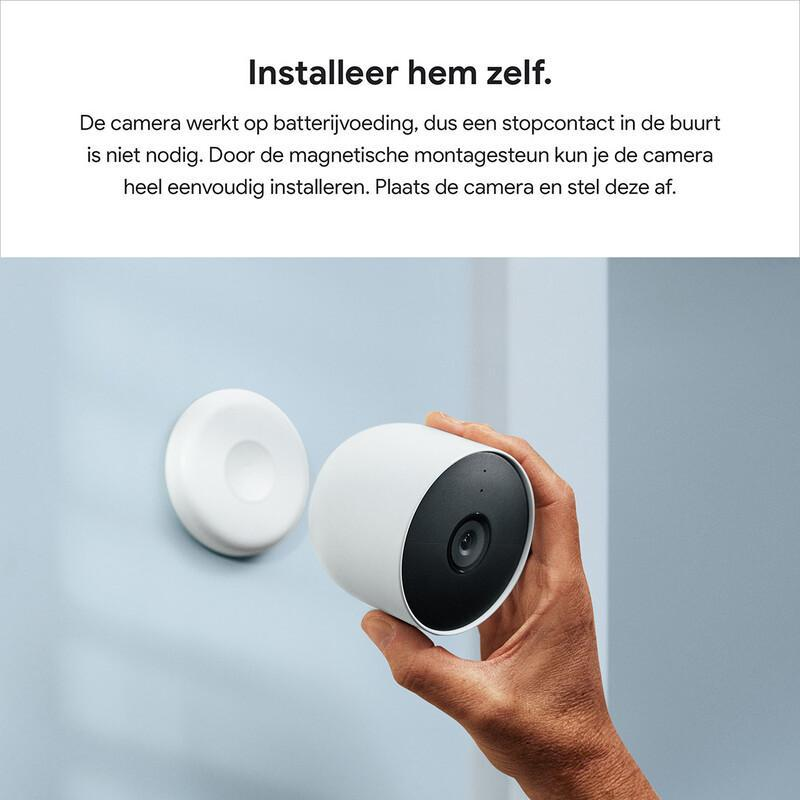nest: (303, 425, 540, 640)
